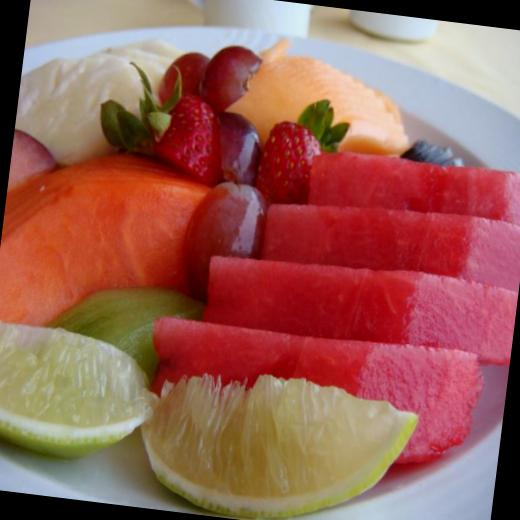Cherry: (141, 312, 489, 472), (0, 142, 213, 343), (200, 242, 520, 366), (260, 193, 520, 291), (308, 147, 520, 231)
